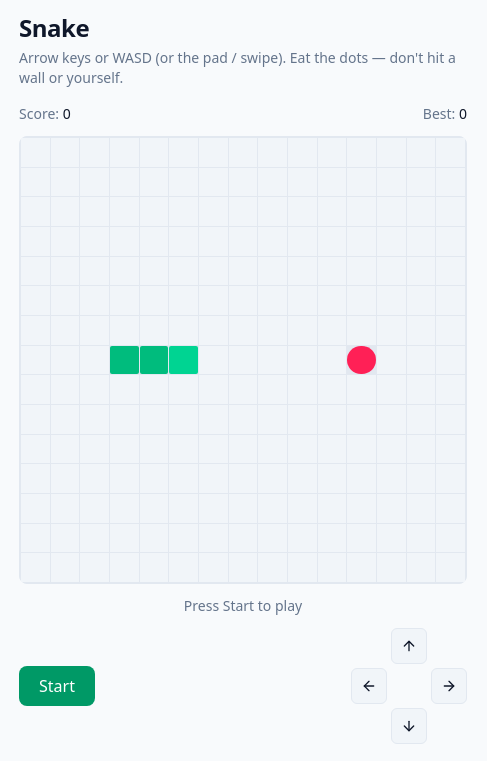
Test case: SnakeApp › Space pauses and resumes a running game
Click the button "Start" at [57, 686], box [19, 666, 95, 706]
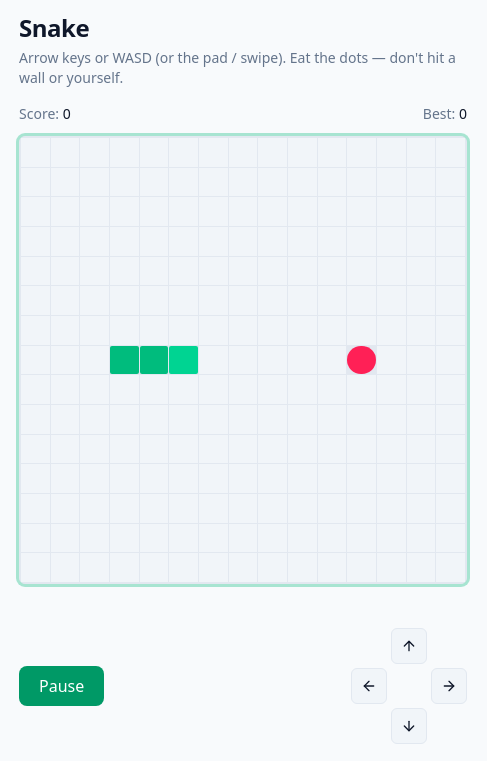
Press Space
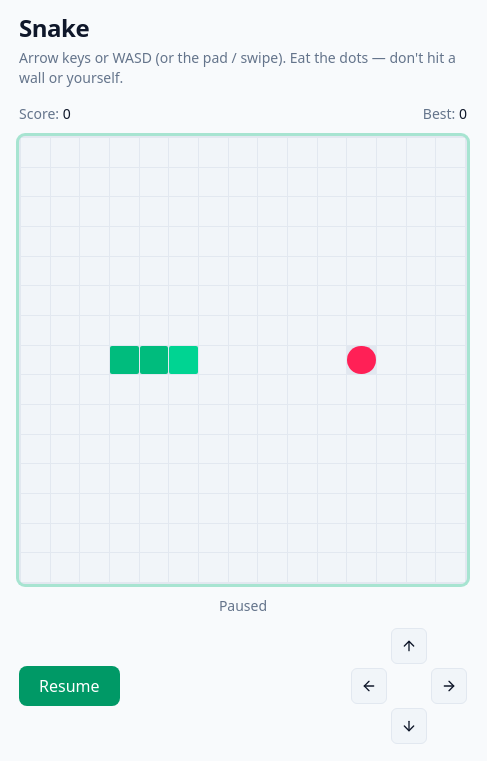
expect the text "Paused" is shown: met, box [219, 596, 267, 615]
Press Space
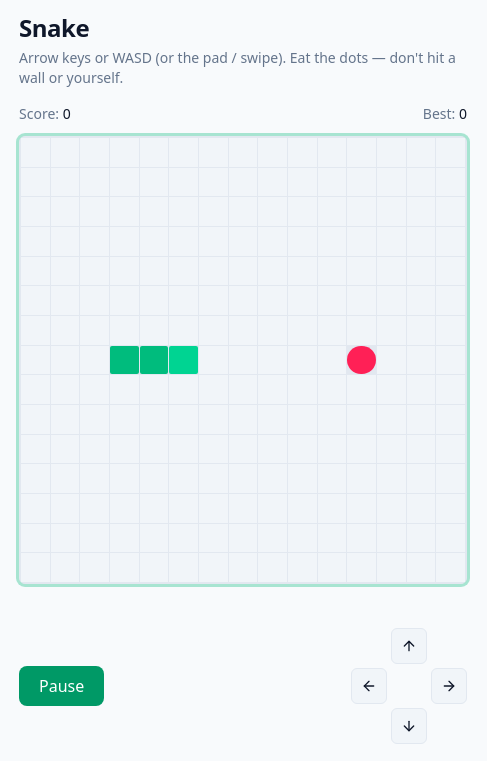
expect the text "Paused" is gone: met
